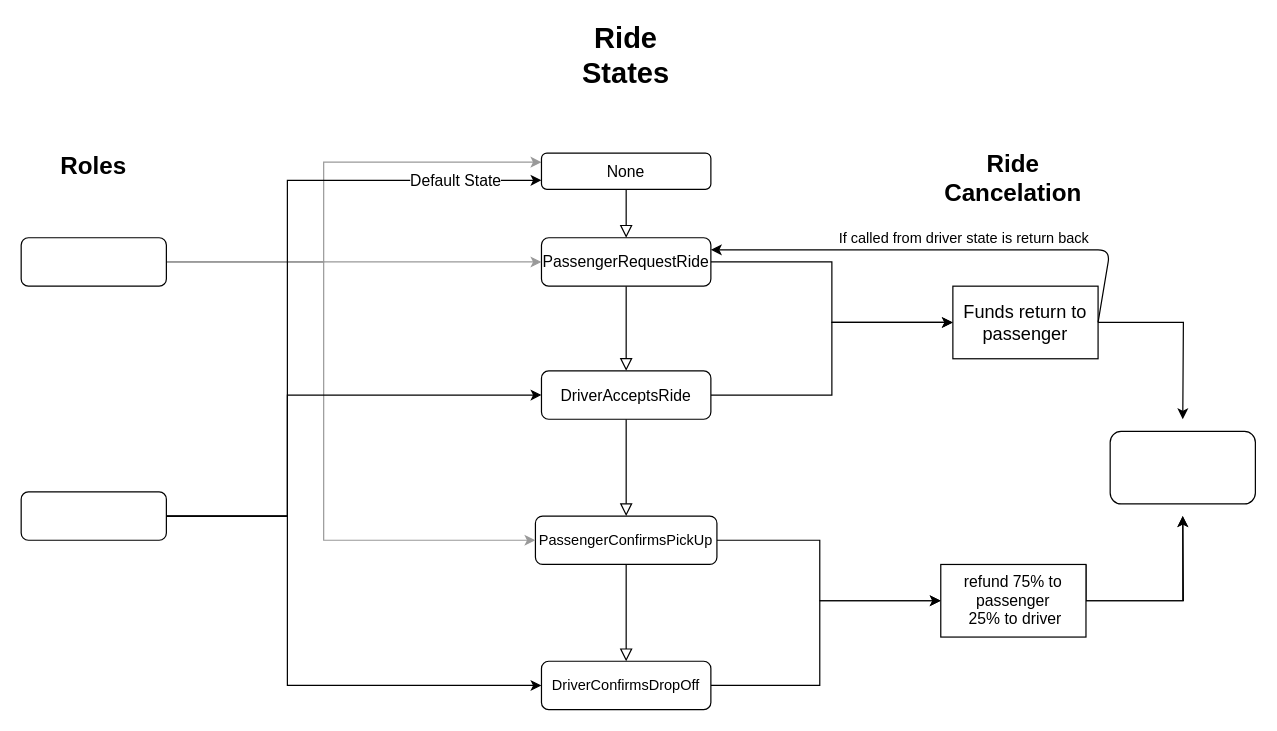
The diagram is 1277 pixels wide and 731 high, and some of its shapes have lost their labels. Here are the shapes that lost their labels. From the top down, the centre of each, then its label:
At (x=93, y=261): "Passenger Address".
At (x=1182, y=467): "Canceled".
At (x=93, y=515): "Driver Address".
